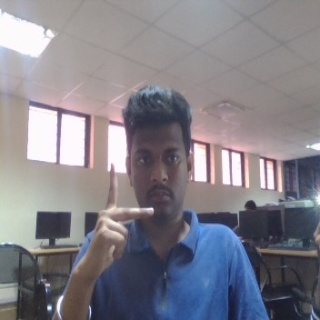Okay: (75, 161, 156, 277)
